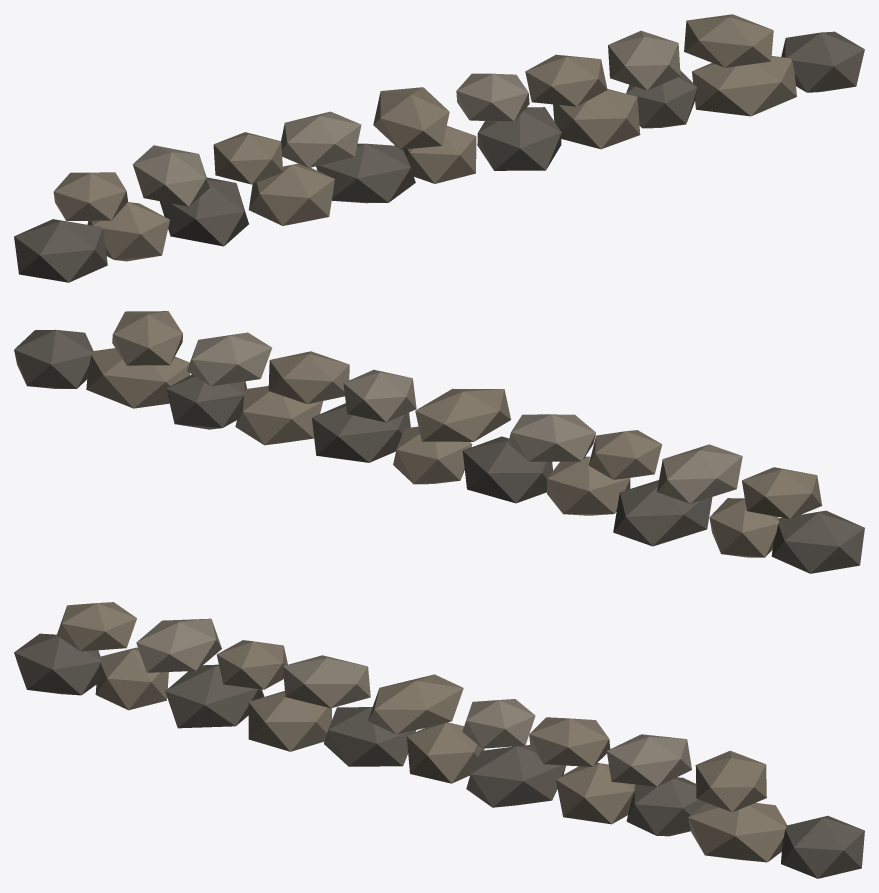
File: muro_pedra_seca_10m.glb
3 renders of one model, top to bottom at view 1: azimuth 30°, elevation 25°; view 2: azimuth 150°, elevation 25°; view 3: azimuth 330°, elevation 25°, orthographic.
Visible parts, largest first — view 1: muro_pedra_seca_10m; view 2: muro_pedra_seca_10m; view 3: muro_pedra_seca_10m.
Boxes of the visible parts, <box> form: muro_pedra_seca_10m: <box>14,14,864,282</box>; muro_pedra_seca_10m: <box>14,311,864,573</box>; muro_pedra_seca_10m: <box>14,602,864,878</box>.
Bounding box in the file's own units: 8.88 × 0.98 × 1.12.
